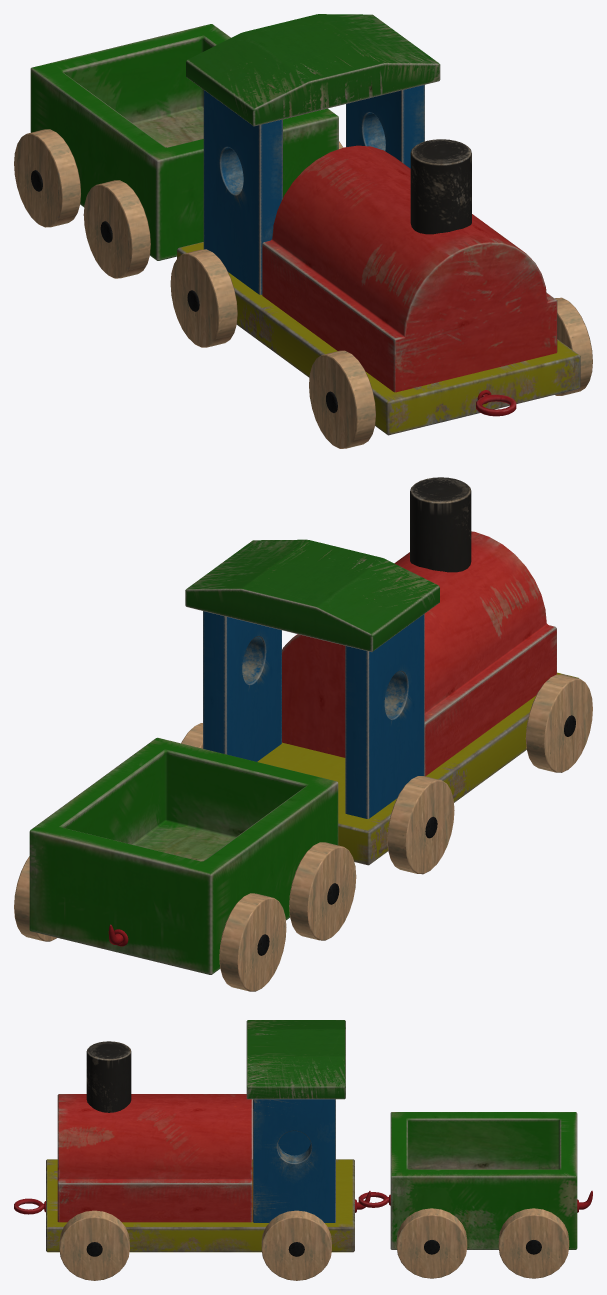
The model's file is wooden_train_toy.glb.
The picture shows the model from 3 angles, top to bottom: view 1: azimuth 30°, elevation 25°; view 2: azimuth 150°, elevation 25°; view 3: azimuth 270°, elevation 25°; orthographic projection. The views are drawn at different scales.
Visible parts, largest first — view 1: Object_3; view 2: Object_3; view 3: Object_3.
Part boxes in pixels (x1,y1,x2,y2): Object_3: (14, 14, 592, 448); Object_3: (14, 477, 592, 991); Object_3: (14, 1020, 592, 1280).
Size of the model in its own units: 12.48 by 13.32 by 35.63.
1 material, 1 textured.
